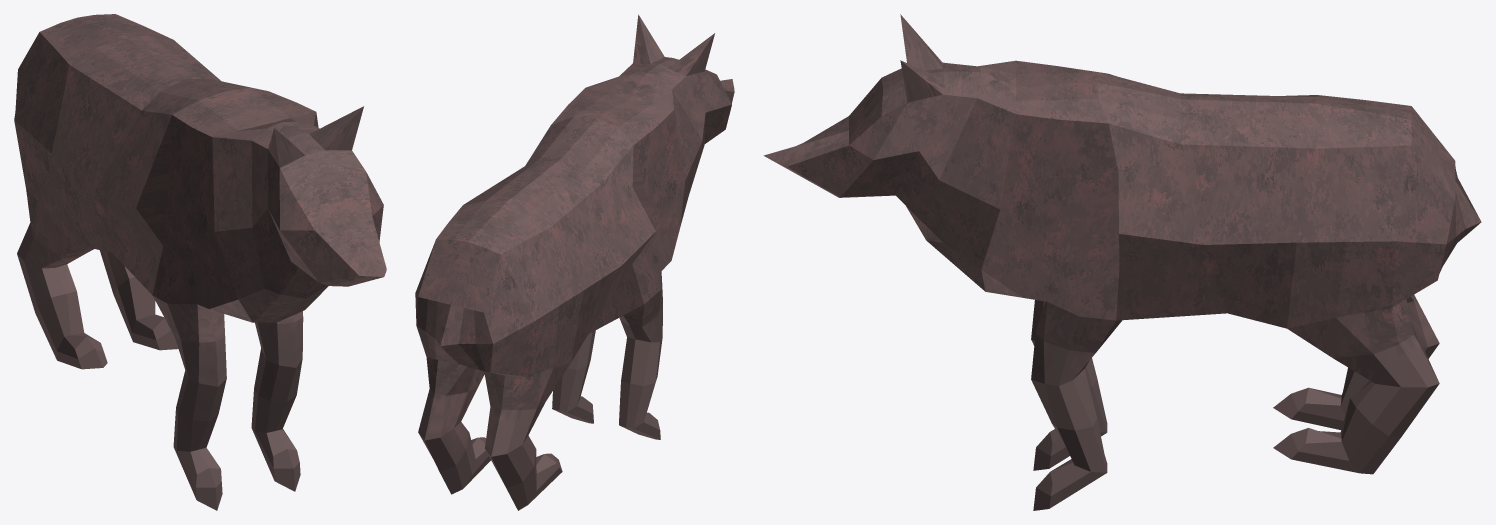
File: piesblendtex_000034.obj
The picture shows the model from 3 angles, left to right: view 1: azimuth 30°, elevation 25°; view 2: azimuth 150°, elevation 25°; view 3: azimuth 270°, elevation 25°; orthographic projection. The views are drawn at different scales.
Parts seen in each view (by area): view 1: Cube; view 2: Cube; view 3: Cube.
Part boxes in pixels (x1,y1,x2,y2): Cube: (14, 14, 386, 510); Cube: (415, 14, 734, 510); Cube: (763, 14, 1481, 510).
Bounding box in the file's own units: 2.56 × 6.61 × 9.49.
